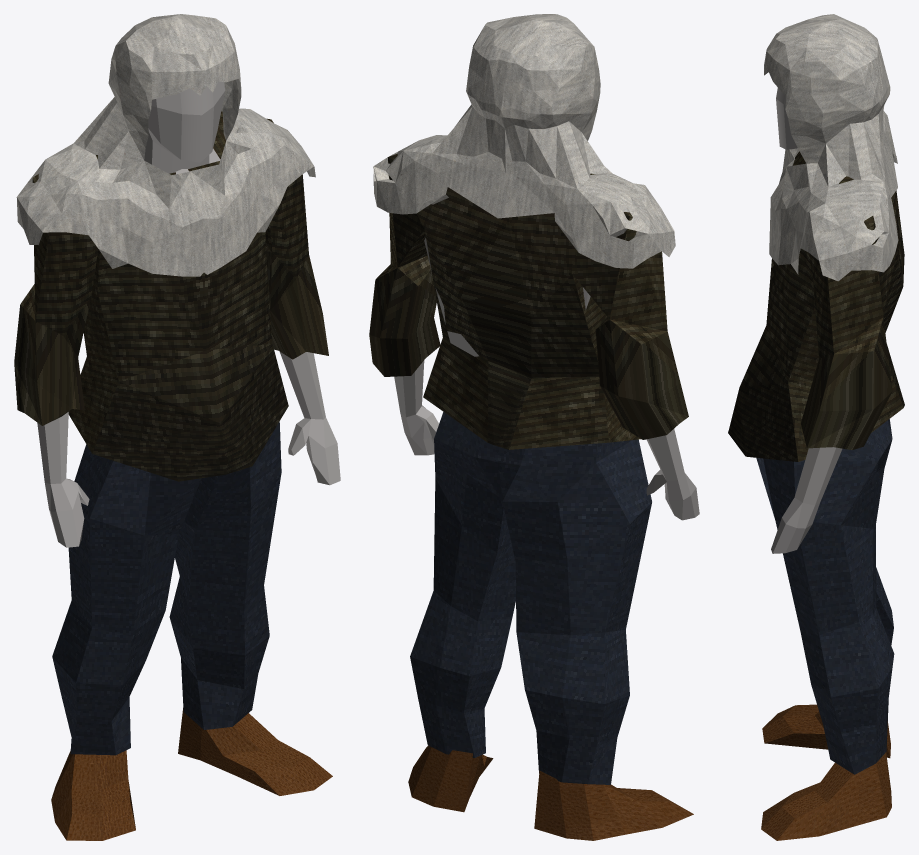
File: playermodel.glb
3 views of the same model, side by side, from view 1: azimuth 30°, elevation 25°; view 2: azimuth 150°, elevation 25°; view 3: azimuth 270°, elevation 25° (orthographic). The views are drawn at different scales.
Visible parts, largest first — view 1: skirt thingy, Pants, hood, Body, Shoes; view 2: Pants, skirt thingy, hood, Shoes, Body; view 3: hood, skirt thingy, Pants, Shoes, Body.
Part boxes in pixels (x1,y1,x2,y2): skirt thingy: (14, 111, 328, 481); Pants: (52, 421, 281, 755); hood: (16, 14, 315, 276); Body: (37, 81, 340, 547); Shoes: (51, 708, 332, 840); Pants: (410, 412, 651, 784); skirt thingy: (369, 153, 688, 449); hood: (373, 14, 675, 268); Shoes: (408, 745, 693, 840); Body: (394, 238, 699, 520); hood: (764, 14, 898, 281); skirt thingy: (728, 151, 904, 461); Pants: (756, 419, 894, 774); Shoes: (761, 704, 891, 840); Body: (771, 87, 842, 553).
Size of the model in its own units: 1.95 by 4.89 by 1.03.
5 materials, 4 textured.
